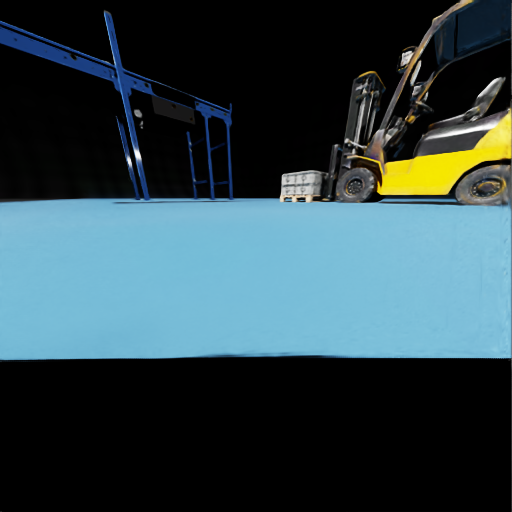transportation_area: (295, 183, 325, 194), (134, 82, 135, 83), (115, 75, 116, 76), (65, 57, 66, 58), (15, 39, 16, 40), (10, 31, 11, 32)
